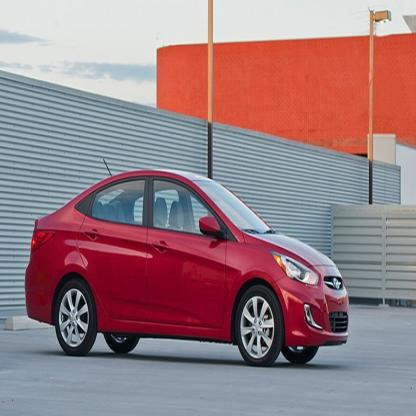Vehicle: (25, 157, 350, 367)
